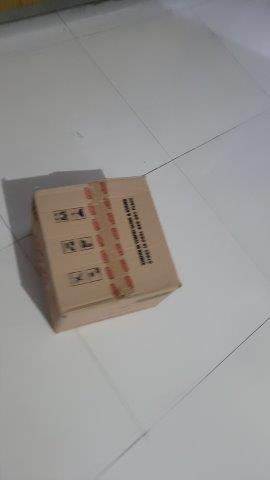kardus: (33, 176, 182, 334)
